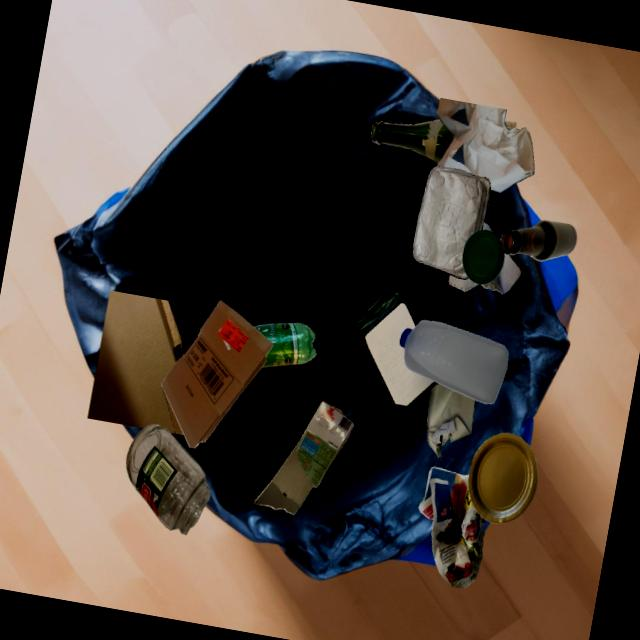biowaste: (356, 292, 399, 338)
cardboard: (160, 299, 273, 448), (87, 290, 183, 435), (253, 400, 353, 514)
glass: (125, 424, 210, 534), (370, 119, 453, 163), (500, 220, 577, 261)
metal: (412, 165, 490, 279)
paper: (436, 98, 534, 192), (418, 467, 486, 589), (365, 303, 433, 405), (467, 432, 537, 523), (426, 384, 474, 457), (451, 231, 498, 277), (480, 253, 521, 294)
plastic: (399, 319, 508, 404), (253, 322, 316, 367), (462, 229, 504, 284)
